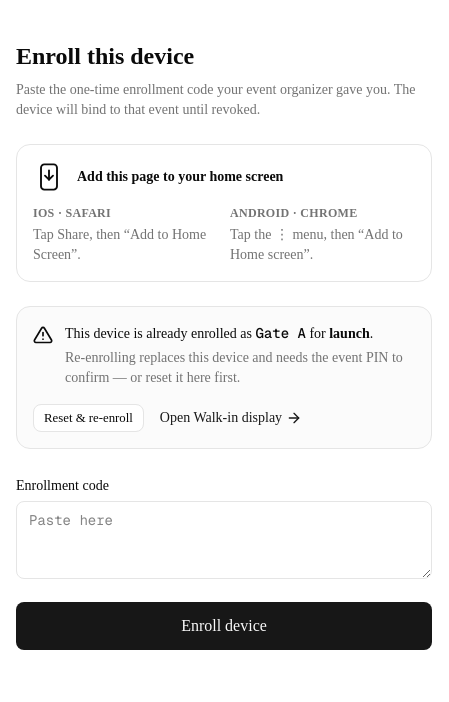
ScannerEnrollPage already-enrolled actions › does NOT overwrite when the confirmation PIN is wrong
Type "NEW-CODE" into the text box with placeholder "Paste here" at {"x": 224, "y": 540}, box [16,501,432,579]
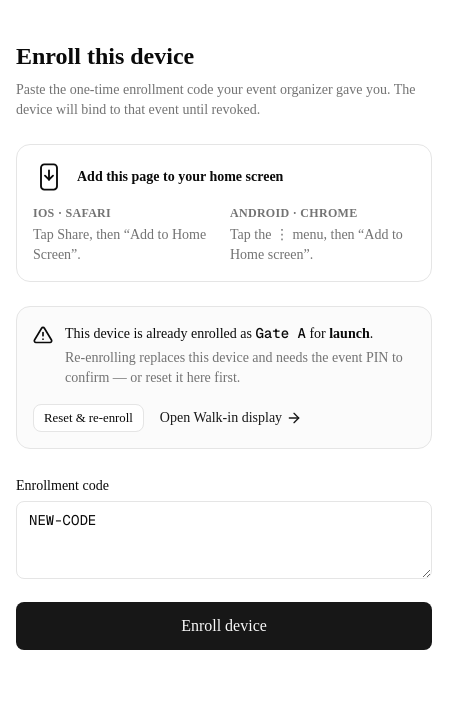
Click the button "Enroll device" at {"x": 224, "y": 626}, box [16,602,432,650]
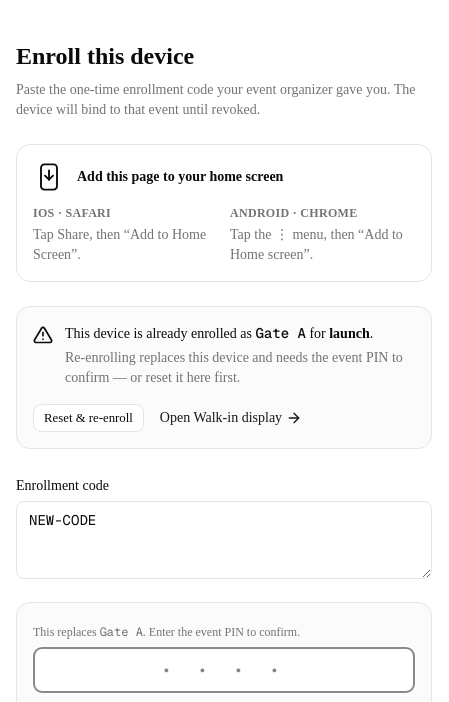
Type "0000" into the field with placeholder "• • • •" at {"x": 224, "y": 670}, box [33,647,415,693]
(page scrolled)
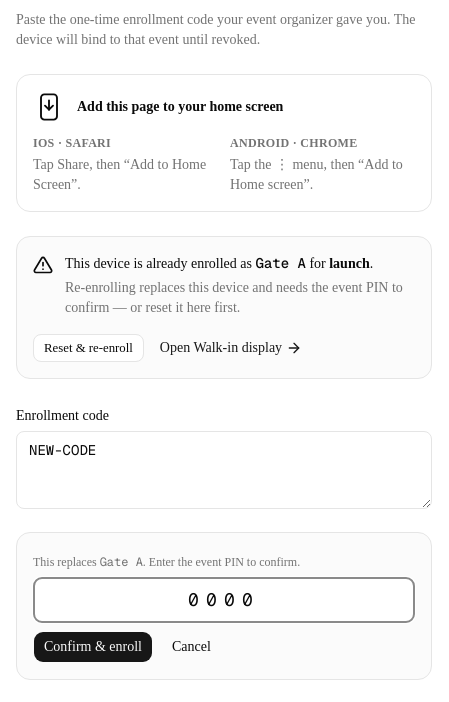
Click the button "Confirm & enroll" at {"x": 93, "y": 647}, box [33,631,153,663]
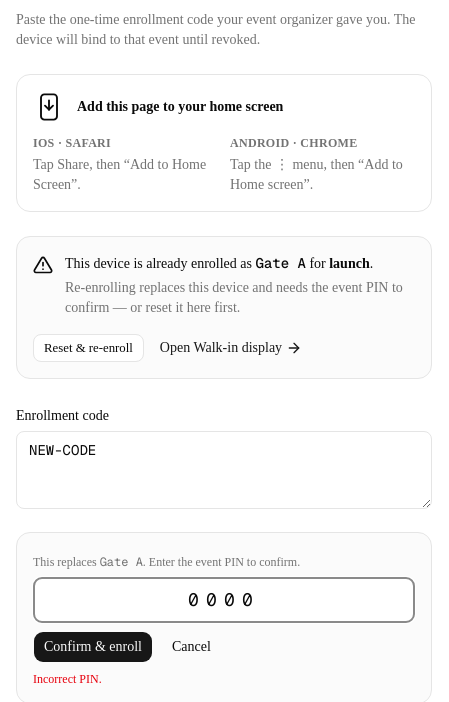
Expected: the text "Incorrect PIN." is shown, [33,672,102,686]
